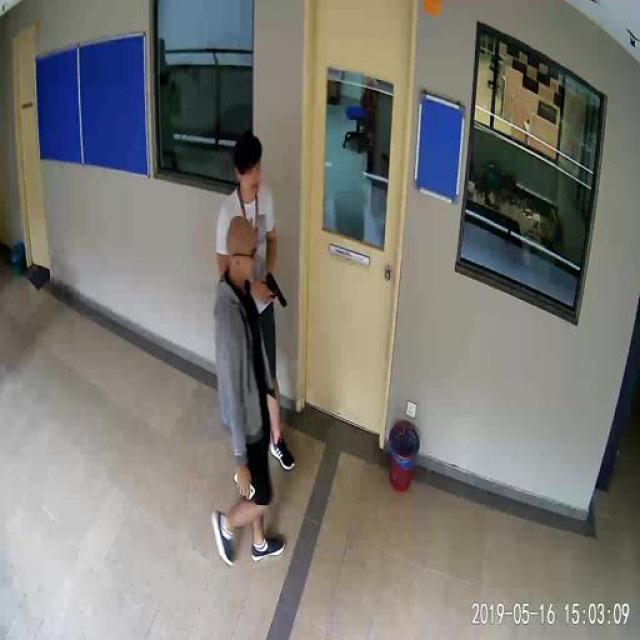Gun: (264, 268, 285, 306)
